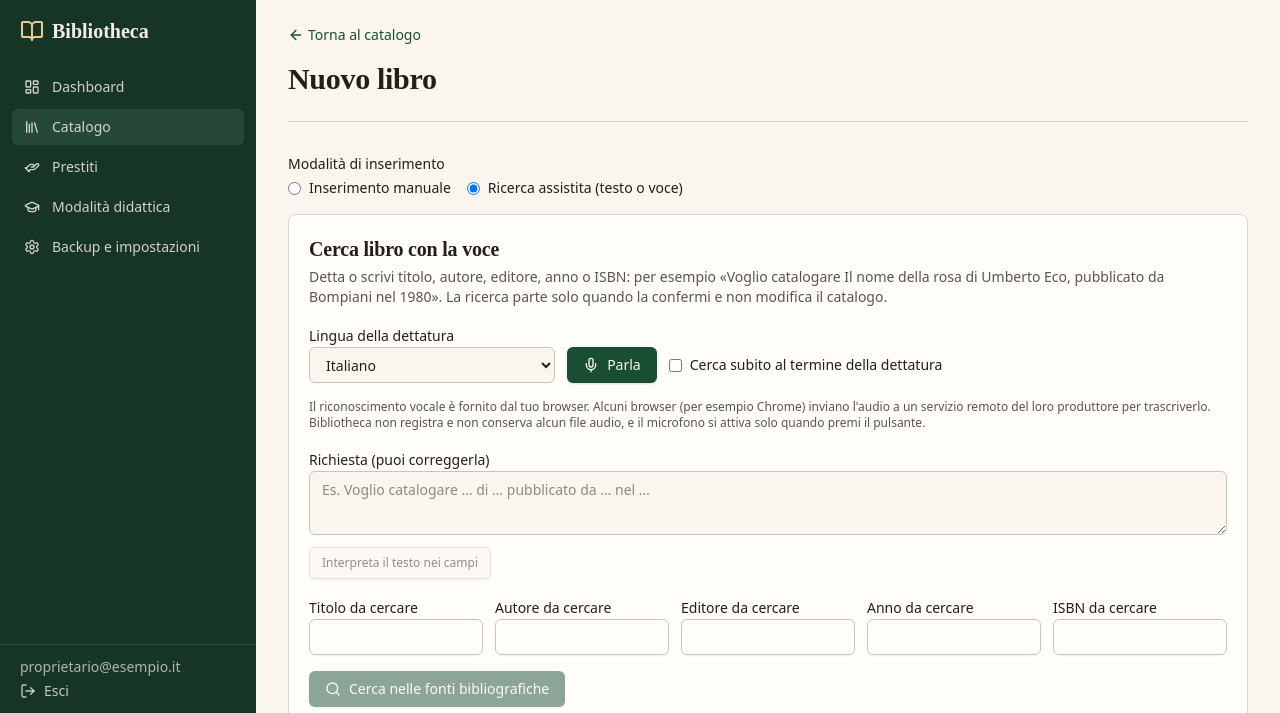
it: Risultati, anteprima e importazione › mostra schede confrontabili con tipo di corrispondenza, dati incompleti, fonti con collegamento, stato delle fonti
Type "Libro di prova" into the field labelled "Titolo da cercare". click: (396,637)
box: [309,619,483,655]
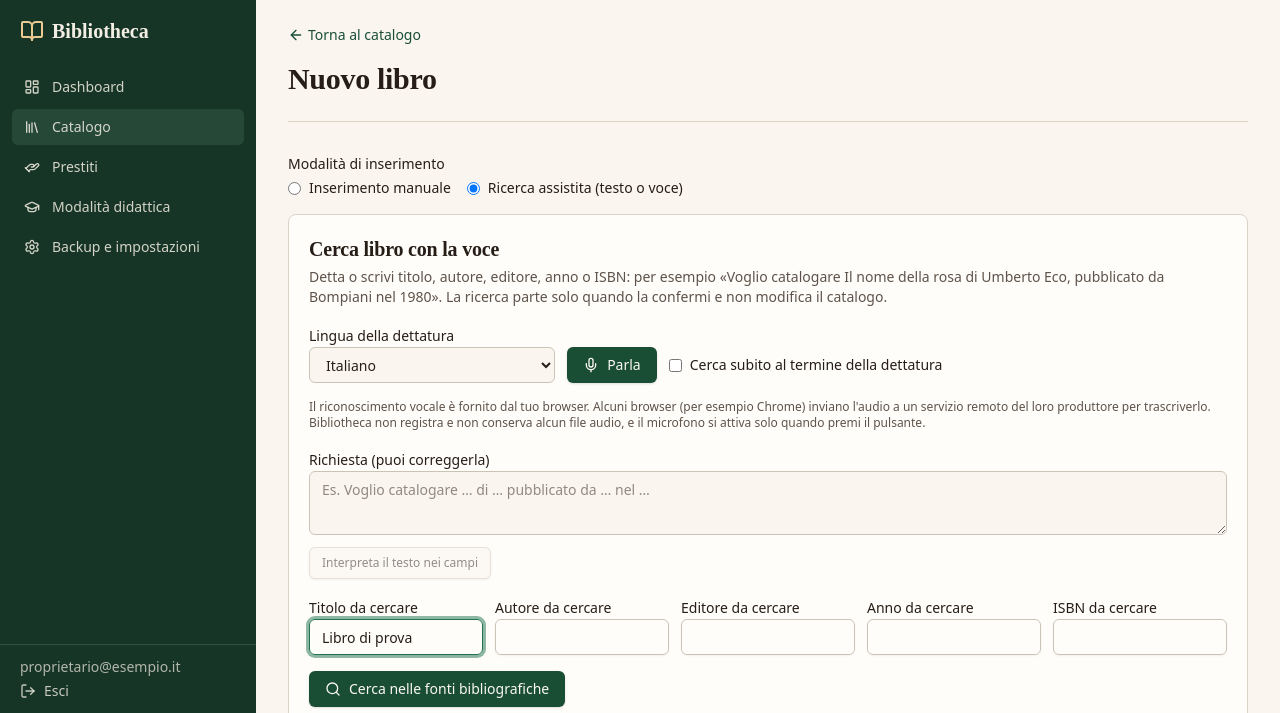
Click the button "Cerca nelle fonti bibliografiche". click: (437,689)
box: [309,671,565,707]
(page scrolled)
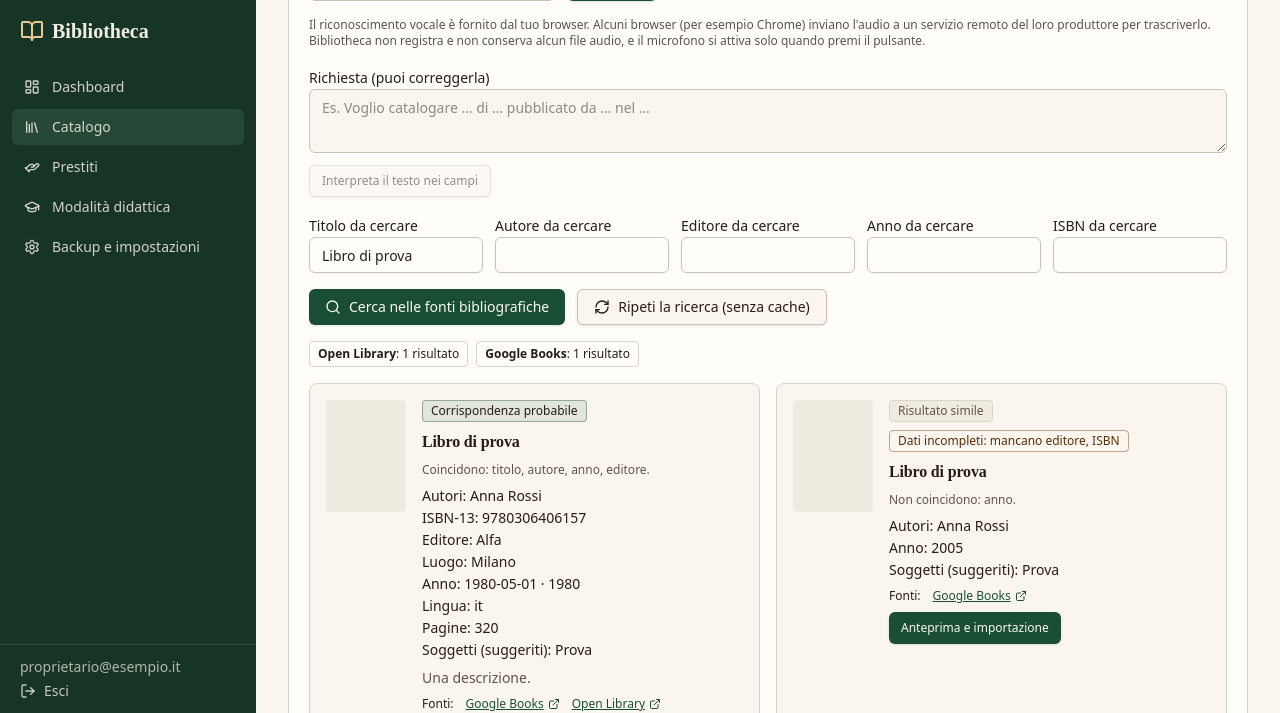
Check: the text "Corrispondenza probabile" is shown, box [422,400,586,422]
Check: the text "ISBN-13:" is shown, box [422,508,482,527]
Check: the text "9780306406157" is shown, box [482,508,586,527]
